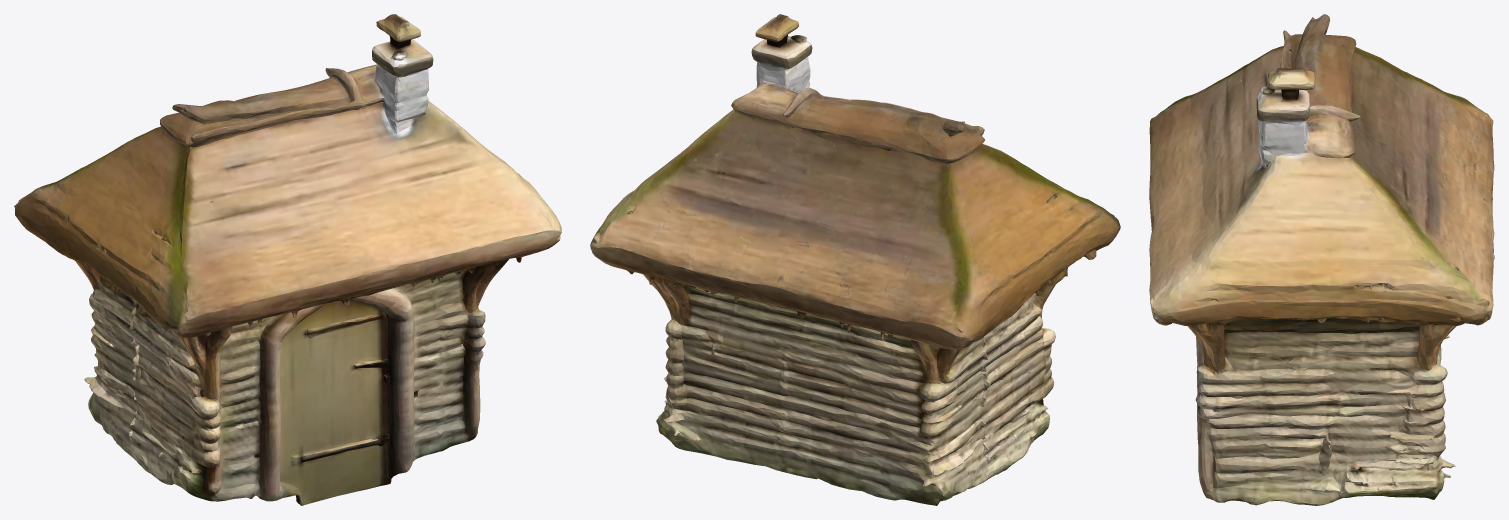
File: fen_witch_hut_01.glb
3 renders of one model, left to right at view 1: azimuth 30°, elevation 25°; view 2: azimuth 150°, elevation 25°; view 3: azimuth 270°, elevation 25°, orthographic. The views are drawn at different scales.
Parts seen in each view (by area): view 1: geometry_0; view 2: geometry_0; view 3: geometry_0.
Part boxes in pixels (x1=…): geometry_0: x1=14, y1=14, x2=561, y2=505; geometry_0: x1=590, y1=14, x2=1120, y2=505; geometry_0: x1=1149, y1=14, x2=1494, y2=505.
Size of the model in its own units: 0.968 by 1 by 0.7066.
1 material, 1 textured.
